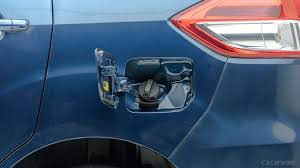open: (121, 54, 197, 114)
